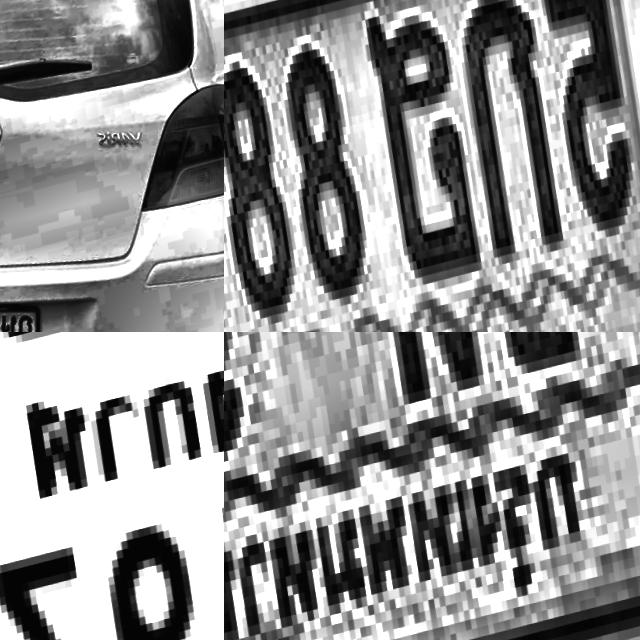license-plate: (224, 0, 640, 332), (224, 332, 640, 640), (0, 332, 224, 640)
